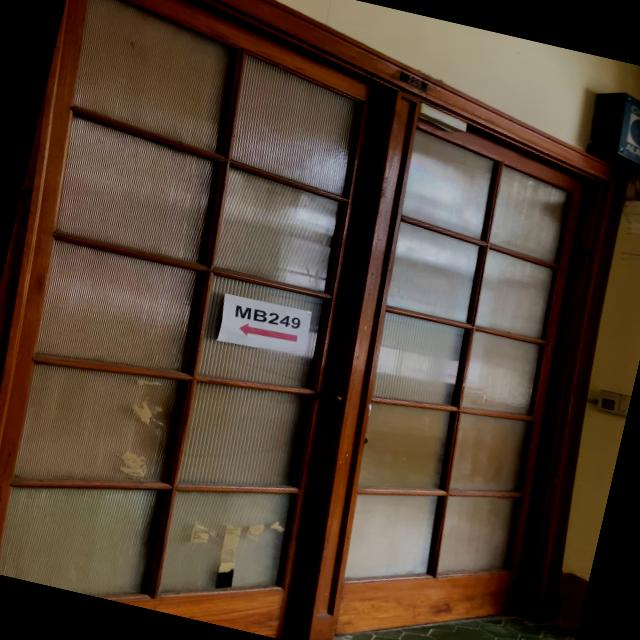room228: (396, 70, 431, 94)
